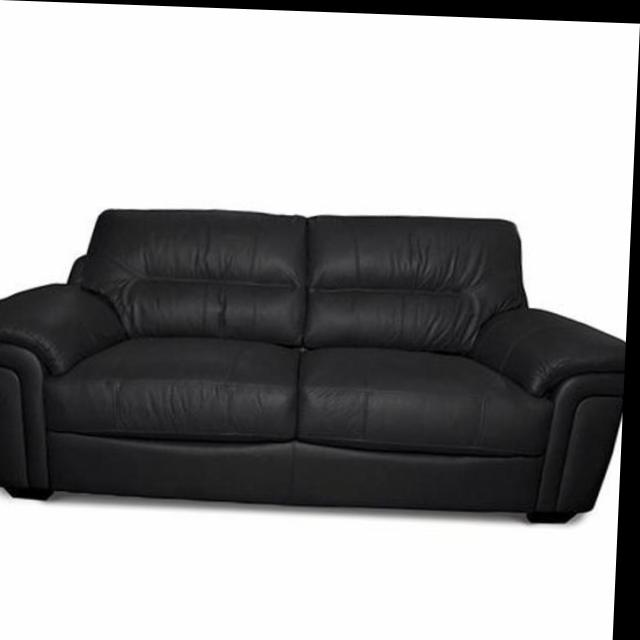Sofa: (0, 199, 633, 521)
